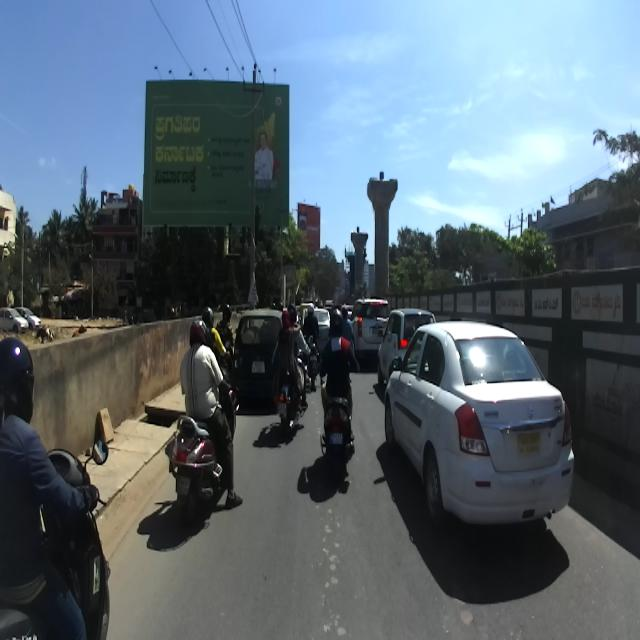car ahead at: (379, 310, 572, 544)
